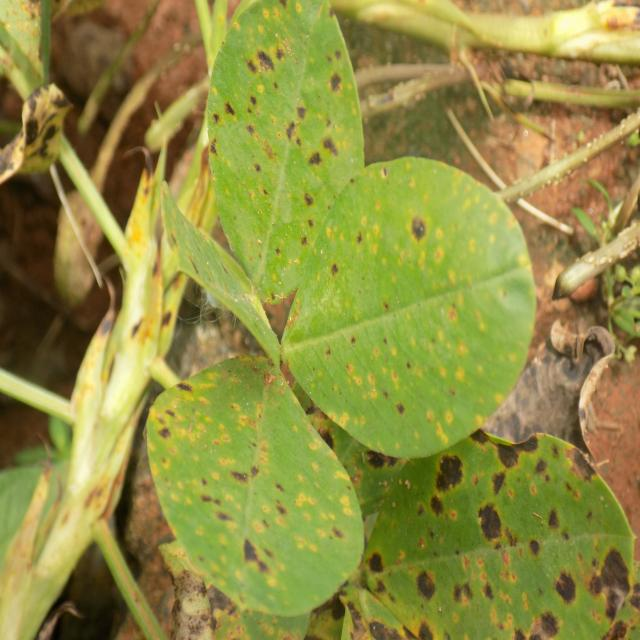Ground nut_tikka leaf spot: (270, 156, 537, 451), (139, 346, 358, 608), (209, 0, 365, 299)
